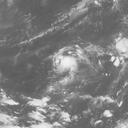cyclone: (52, 47, 79, 79)
